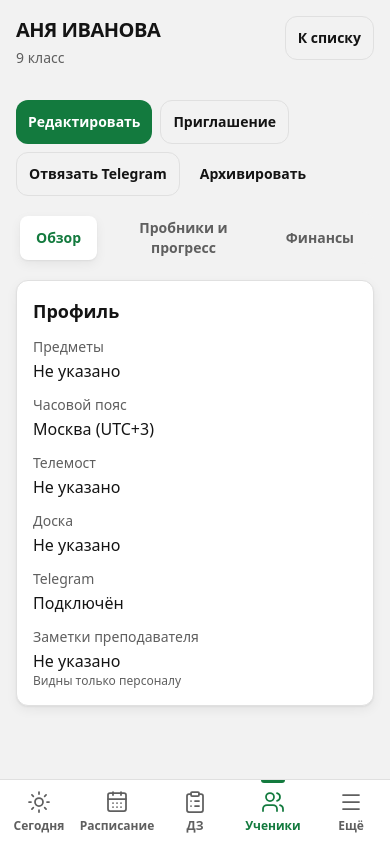
Test: Карточка ученика: вкладка «Финансы» › владелец видит заработок и ожидаемое по ученику
This screenshot has width=390, height=844.
Press the mouse on the tab "Финансы": x=320, y=238 [270, 216, 370, 260]
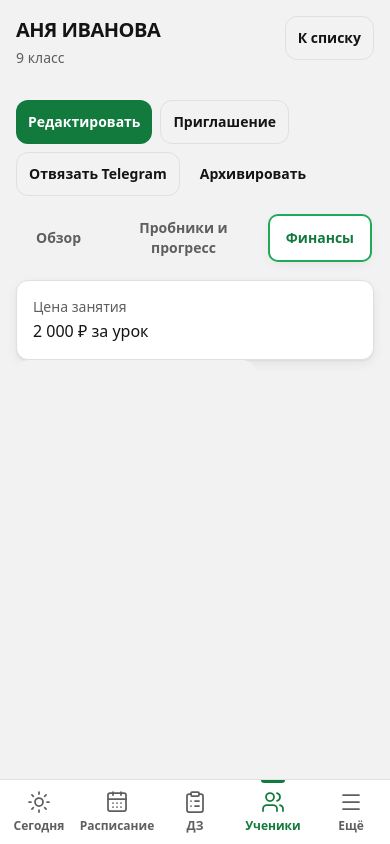
Click the tab "Финансы": x=320, y=238 [270, 216, 370, 260]
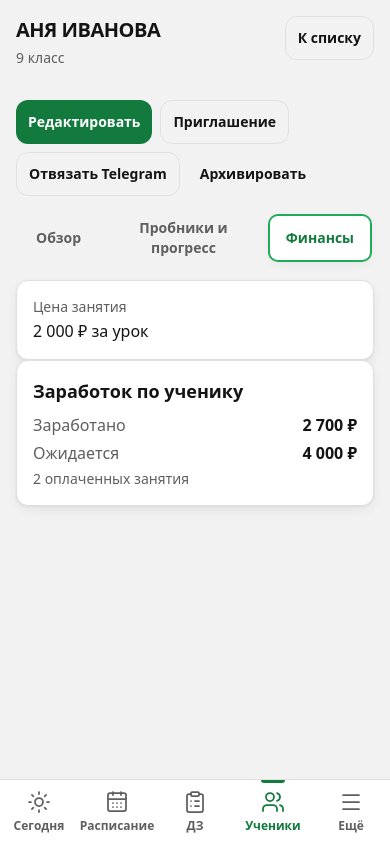
Now the heading "Заработок по ученику" is shown, box [33, 379, 243, 403]
Now the text "2 700 ₽" is shown, box [302, 413, 357, 437]
Now the text "4 000 ₽" is shown, box [302, 441, 357, 465]
